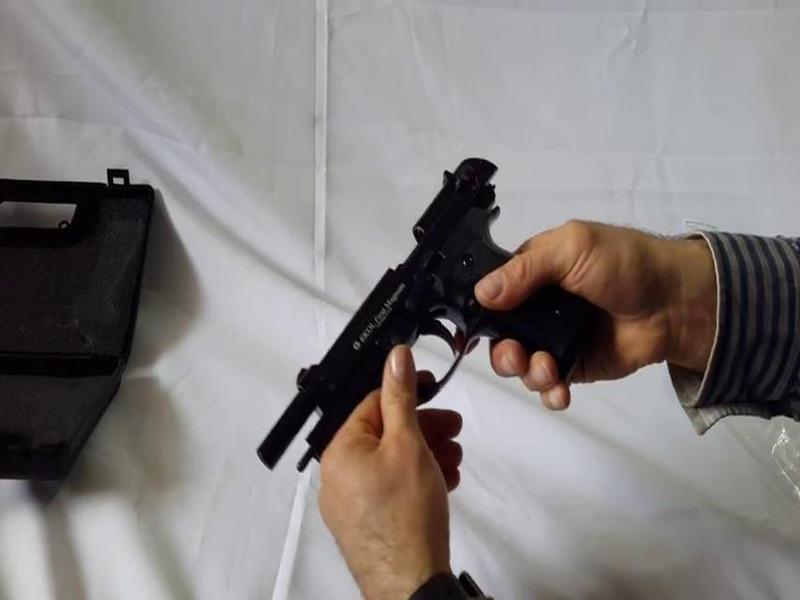Pistola: (237, 143, 626, 535)
